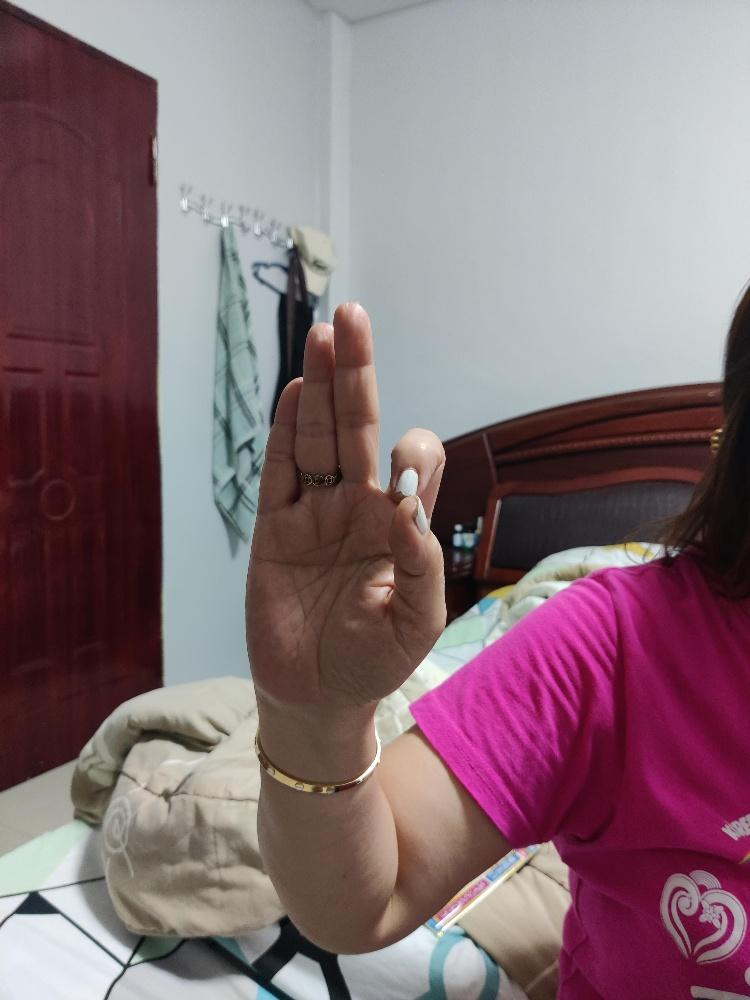f: (241, 296, 449, 713)
